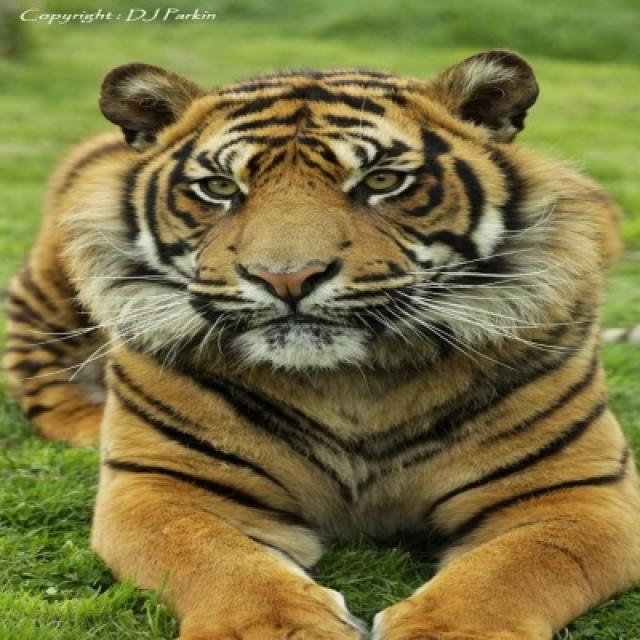Tiger: (0, 42, 638, 638)
